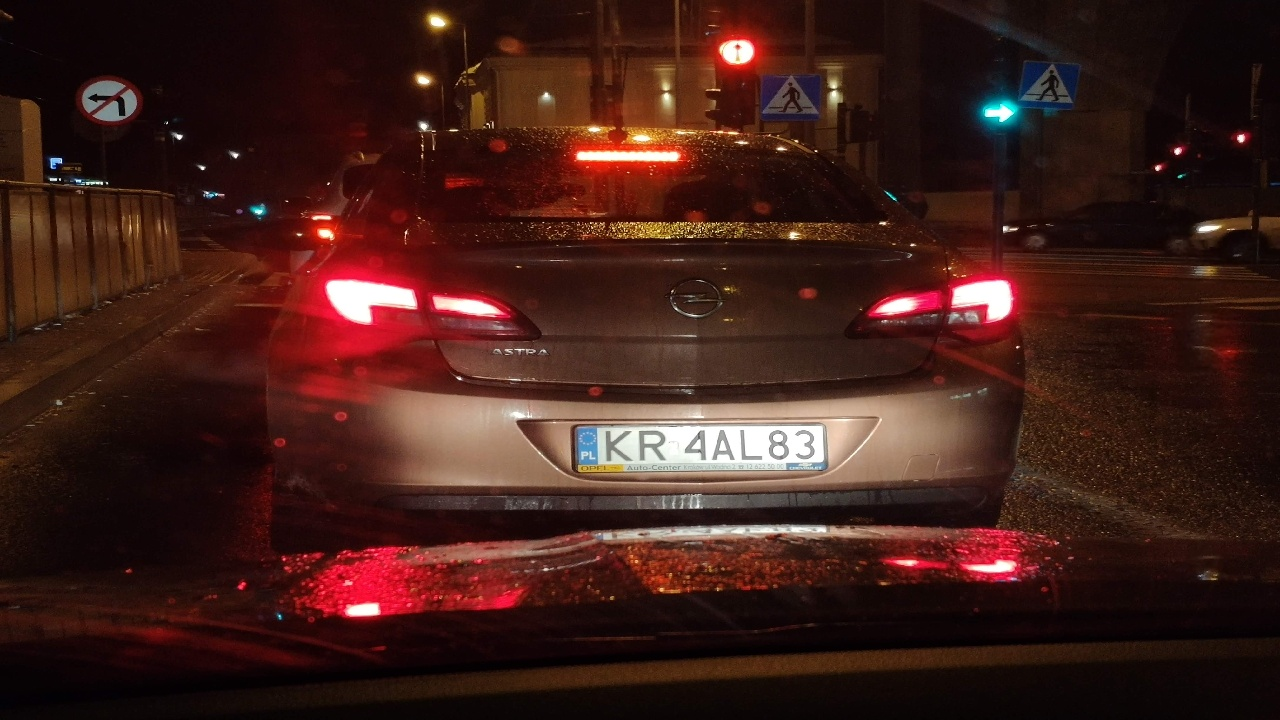B21: (75, 75, 143, 127)
D6: (1018, 61, 1080, 112), (760, 74, 821, 121)
Red: (721, 38, 752, 124)
